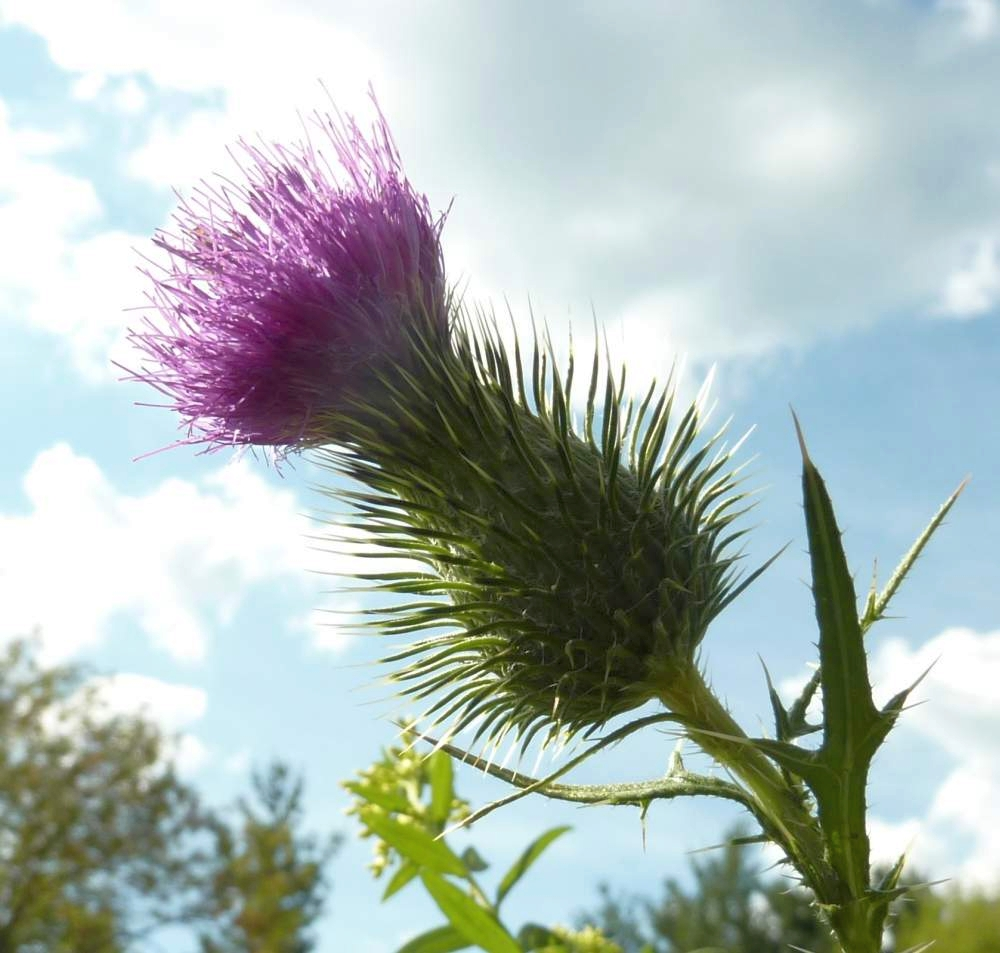thistle: (119, 95, 775, 744)
